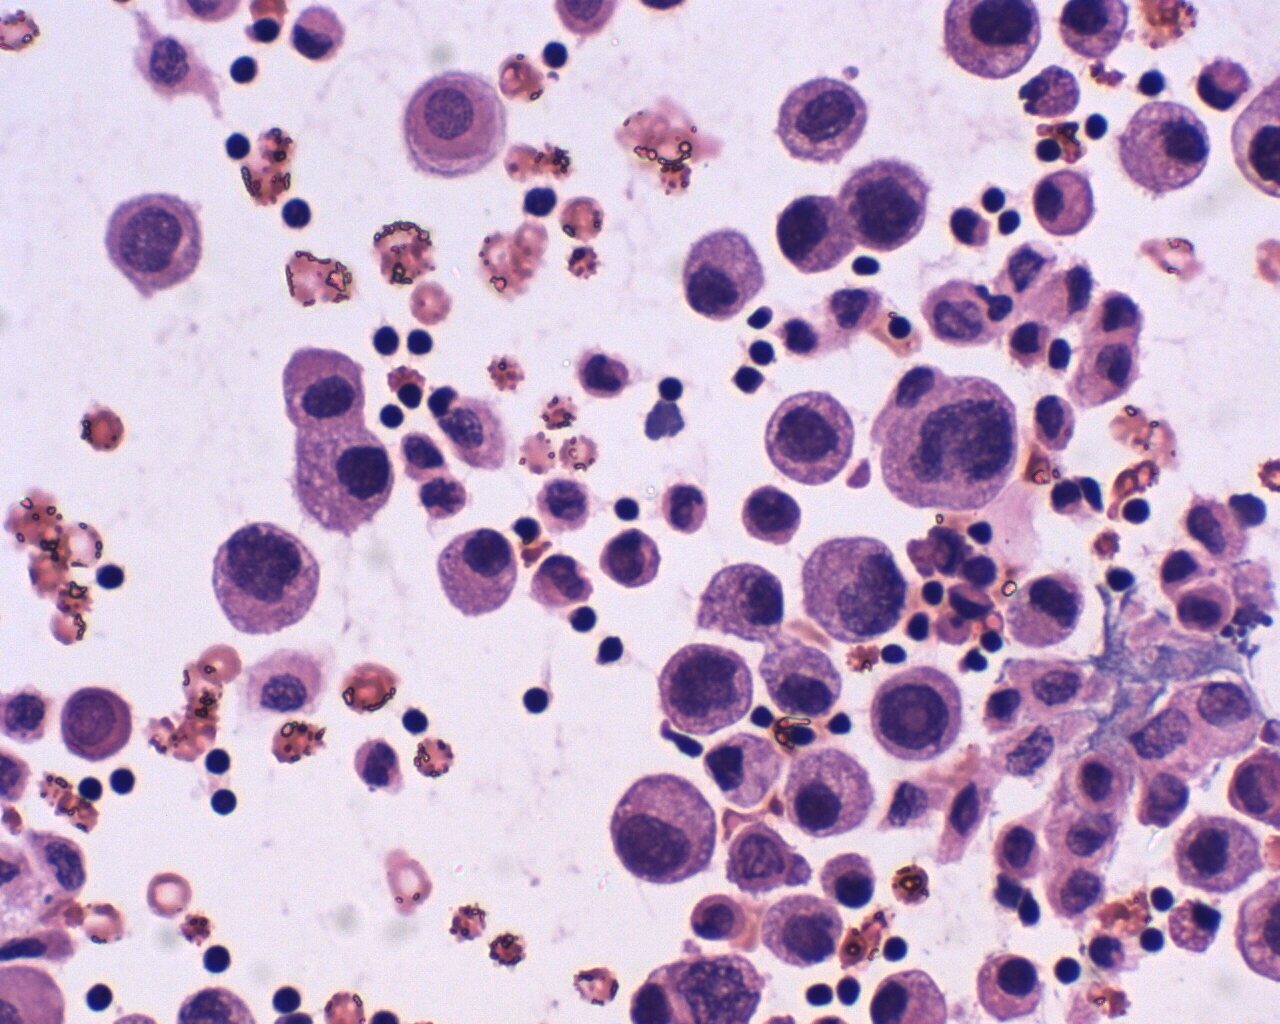ab: (874, 366, 1018, 514), (98, 186, 223, 297), (606, 770, 716, 894), (795, 530, 909, 645), (211, 520, 318, 641), (648, 638, 764, 740), (865, 658, 965, 764), (1167, 806, 1275, 898), (836, 157, 930, 256), (770, 190, 853, 278), (760, 886, 847, 968), (56, 685, 137, 764), (722, 816, 795, 893), (594, 523, 665, 595), (734, 484, 811, 546)
lymph: (749, 385, 861, 484), (511, 676, 558, 721), (1044, 953, 1095, 993), (197, 941, 245, 977), (277, 196, 320, 234), (207, 786, 243, 818)
meso: (270, 345, 376, 429), (430, 523, 523, 616), (968, 942, 1050, 1022), (1028, 164, 1106, 240), (1068, 754, 1130, 815)
